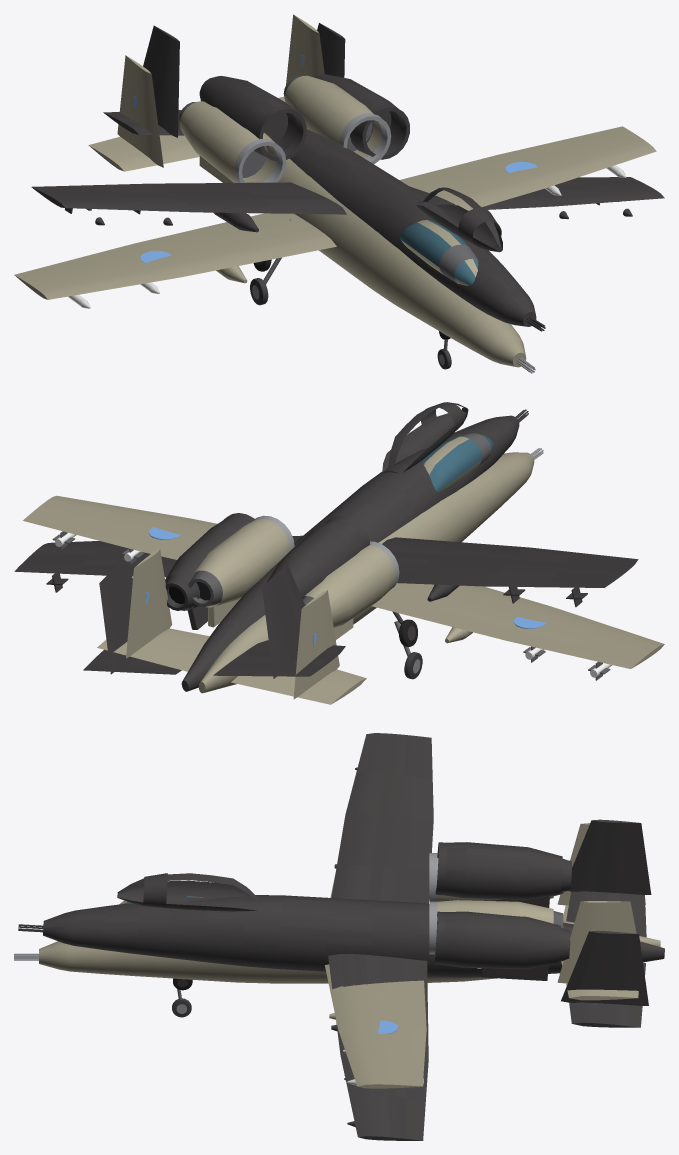
File: attackJet__a_10c_thunderbolt_ii.glb
3 views of the same model, one above another, from view 1: azimuth 30°, elevation 25°; view 2: azimuth 150°, elevation 25°; view 3: azimuth 270°, elevation 25° (orthographic). The views are drawn at different scales.
Parts seen in each view (by area): view 1: Fuselage_Mesh, Wreck; view 2: Fuselage_Mesh, Wreck; view 3: Wreck, Fuselage_Mesh.
Part boxes in pixels (x1,y1,x2,y2): Fuselage_Mesh: [14, 14, 656, 373]; Wreck: [31, 23, 664, 339]; Fuselage_Mesh: [23, 433, 664, 704]; Wreck: [14, 402, 638, 691]; Wreck: [18, 733, 664, 1140]; Fuselage_Mesh: [14, 823, 660, 1090].
Size of what is drawn, in the model's own units: 17.67 by 4.97 by 16.92.
